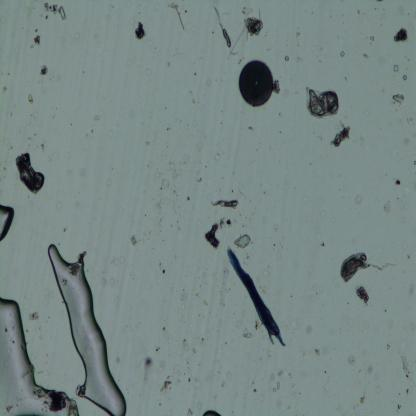Air bubble: (0, 296, 79, 415), (0, 201, 15, 244)
Background material: (46, 244, 127, 415), (14, 151, 45, 195), (152, 177, 170, 239), (242, 6, 264, 38), (203, 216, 224, 249), (330, 118, 352, 148), (166, 159, 180, 203), (40, 391, 67, 412), (169, 0, 186, 31), (43, 2, 66, 22), (132, 20, 148, 42), (234, 231, 252, 250), (272, 369, 286, 393), (160, 375, 174, 397), (400, 353, 411, 381), (170, 364, 187, 382), (355, 284, 370, 304), (394, 25, 408, 45), (310, 282, 325, 300), (141, 354, 155, 372), (259, 265, 271, 285), (244, 208, 257, 226), (179, 150, 192, 167), (352, 191, 364, 209), (29, 34, 42, 49), (202, 405, 220, 415), (392, 93, 405, 105), (29, 309, 40, 322), (152, 167, 162, 181), (408, 280, 416, 297), (363, 364, 375, 375), (272, 222, 282, 235), (357, 393, 366, 407), (39, 64, 49, 76), (240, 330, 252, 340), (310, 345, 320, 357), (348, 356, 358, 368), (212, 151, 222, 163), (273, 77, 280, 94), (287, 372, 295, 386), (28, 134, 34, 152), (304, 322, 313, 334), (34, 143, 46, 152), (271, 242, 281, 252), (130, 233, 137, 246), (103, 179, 113, 188), (82, 130, 90, 141), (187, 404, 194, 416), (384, 201, 390, 215), (154, 344, 162, 354), (384, 342, 392, 352), (220, 379, 228, 389), (27, 112, 35, 122), (62, 224, 69, 235), (224, 218, 232, 227), (78, 170, 87, 178), (92, 112, 100, 121), (1, 84, 7, 95), (394, 178, 402, 186), (190, 346, 198, 354), (196, 175, 204, 183), (240, 188, 247, 197), (28, 94, 34, 104), (396, 404, 402, 414), (198, 142, 204, 152), (401, 242, 407, 252), (404, 252, 411, 260), (246, 124, 253, 132), (317, 132, 324, 140), (56, 201, 62, 210), (402, 73, 408, 82), (284, 54, 290, 62), (146, 227, 152, 235), (68, 168, 74, 176), (165, 126, 173, 132), (147, 139, 153, 147), (200, 335, 205, 344), (46, 154, 52, 161), (186, 377, 192, 384), (369, 35, 375, 42), (183, 338, 188, 346), (287, 402, 292, 410), (8, 145, 13, 153), (147, 162, 152, 170), (184, 194, 190, 200), (302, 198, 308, 204), (308, 160, 314, 166), (89, 127, 95, 133), (320, 242, 326, 247), (10, 109, 13, 119), (162, 326, 167, 332), (220, 174, 225, 180), (406, 389, 410, 396), (277, 129, 282, 134), (166, 144, 171, 149), (177, 227, 182, 232), (338, 187, 342, 192), (253, 389, 257, 394), (278, 111, 282, 116), (2, 165, 6, 170), (144, 212, 148, 217), (262, 191, 266, 196), (398, 392, 401, 396), (218, 188, 221, 192), (325, 370, 327, 375), (299, 390, 301, 395), (204, 165, 207, 168), (231, 191, 234, 194), (256, 148, 258, 152), (177, 220, 179, 224)
Cellulose filter fibre: (338, 253, 396, 283), (303, 86, 341, 120), (212, 1, 232, 46), (210, 196, 240, 209)
Cotton: (225, 249, 288, 352)
Pen: (239, 61, 274, 108)
